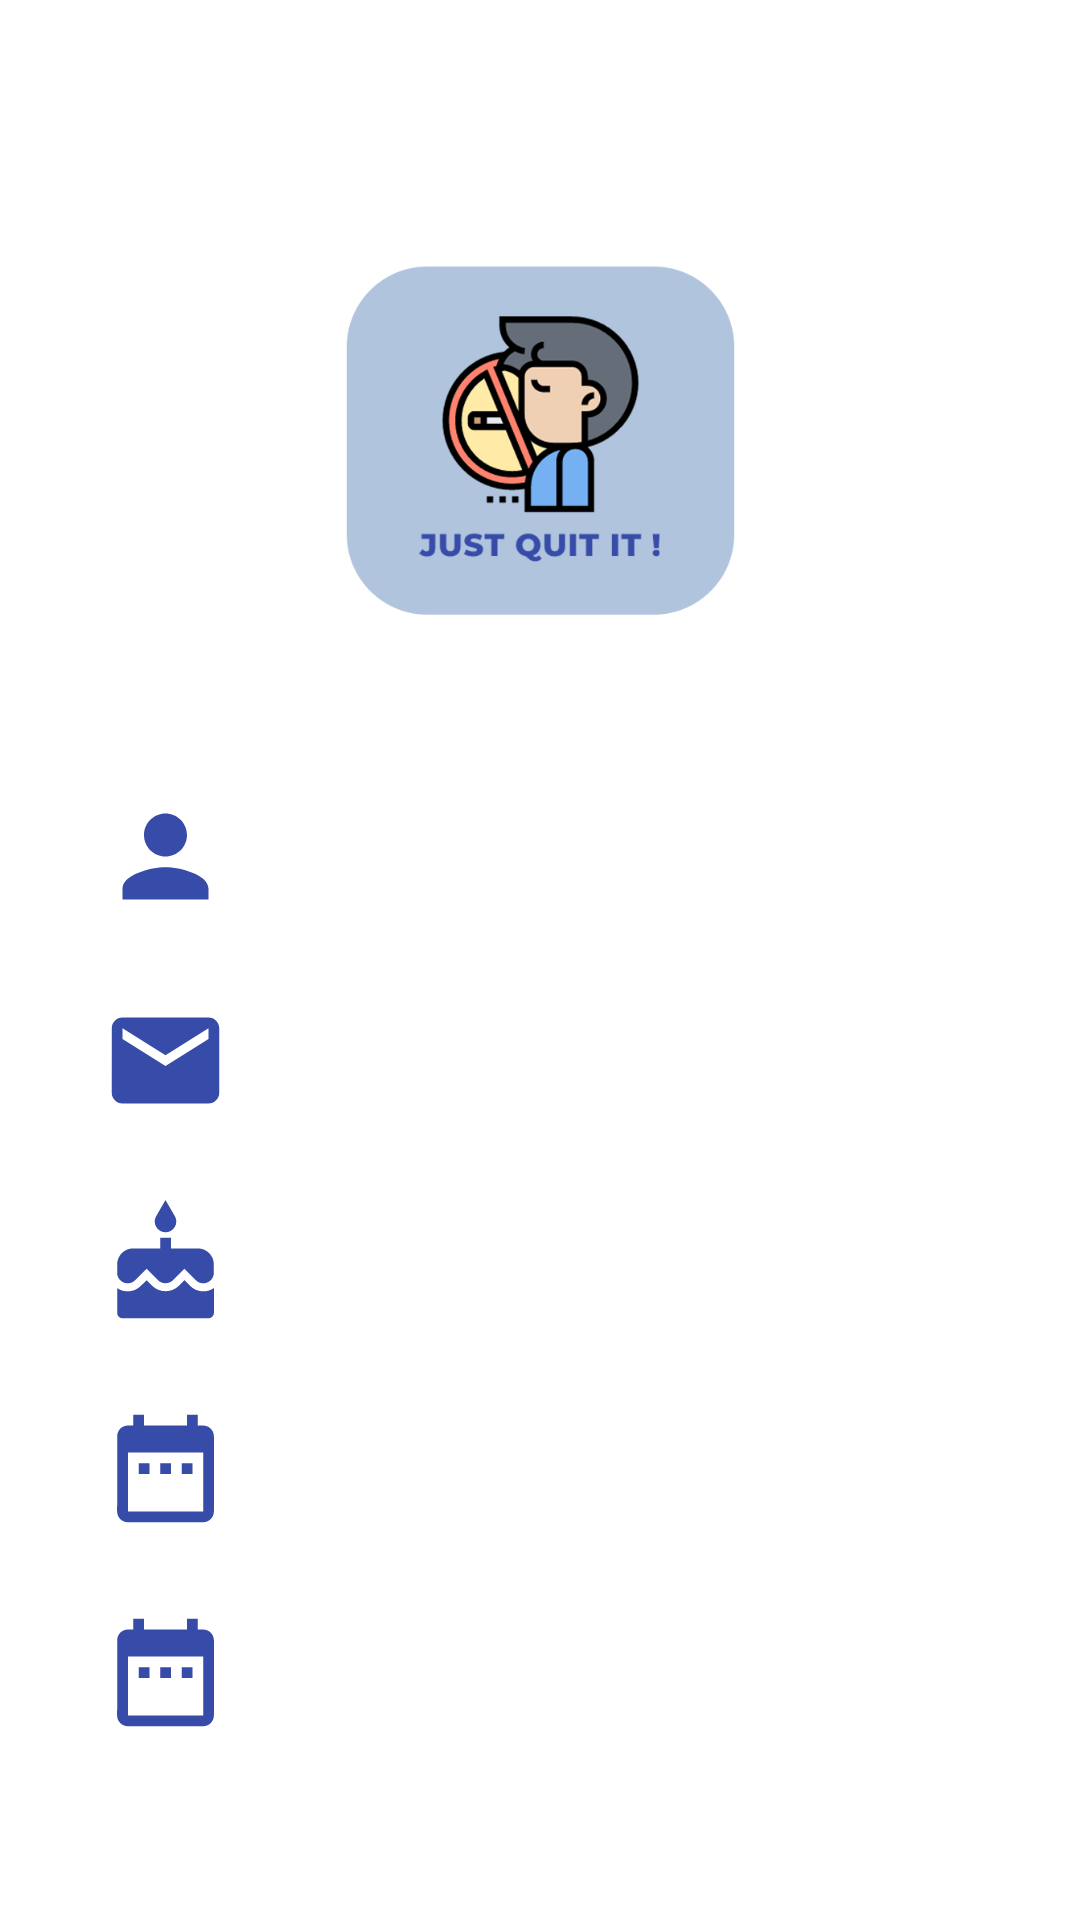

Screen size 1080x1920. Icon name, then its box in pixels as (x1, y1, x2, y2):
cake: (117, 1200, 214, 1319)
date range: (117, 1414, 214, 1523), (117, 1618, 214, 1727)
email: (111, 1017, 220, 1104)
person: (122, 813, 209, 900)
